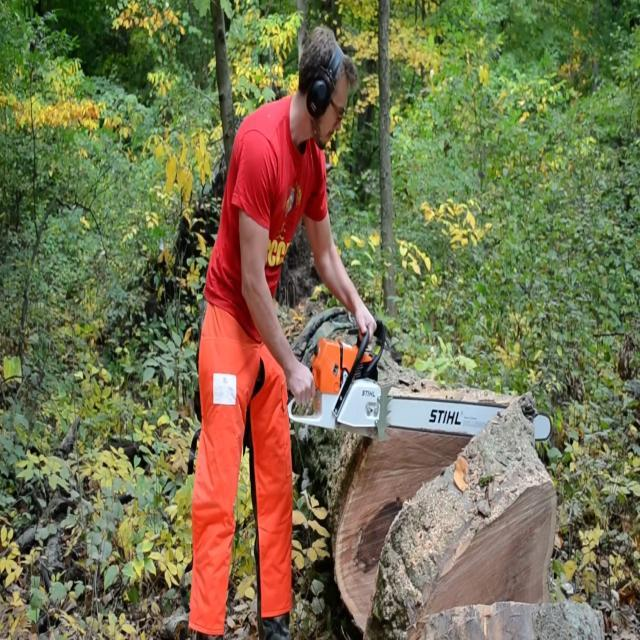Chainsaw: (272, 303, 572, 457)
